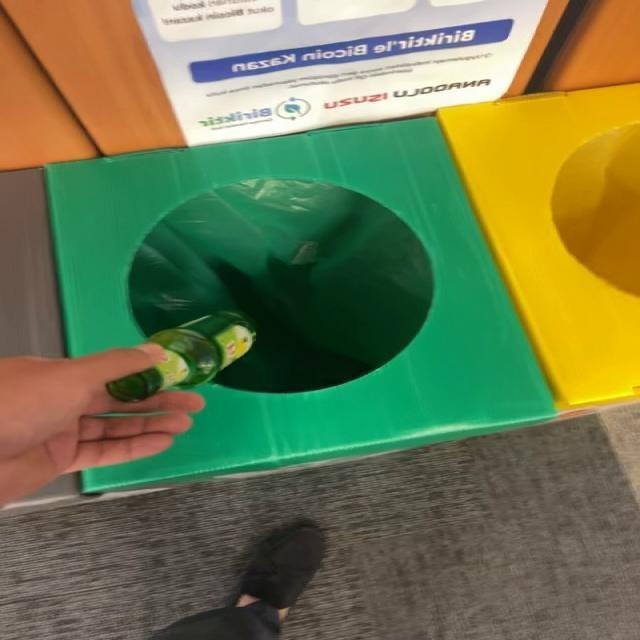Glass: (105, 311, 256, 402)
